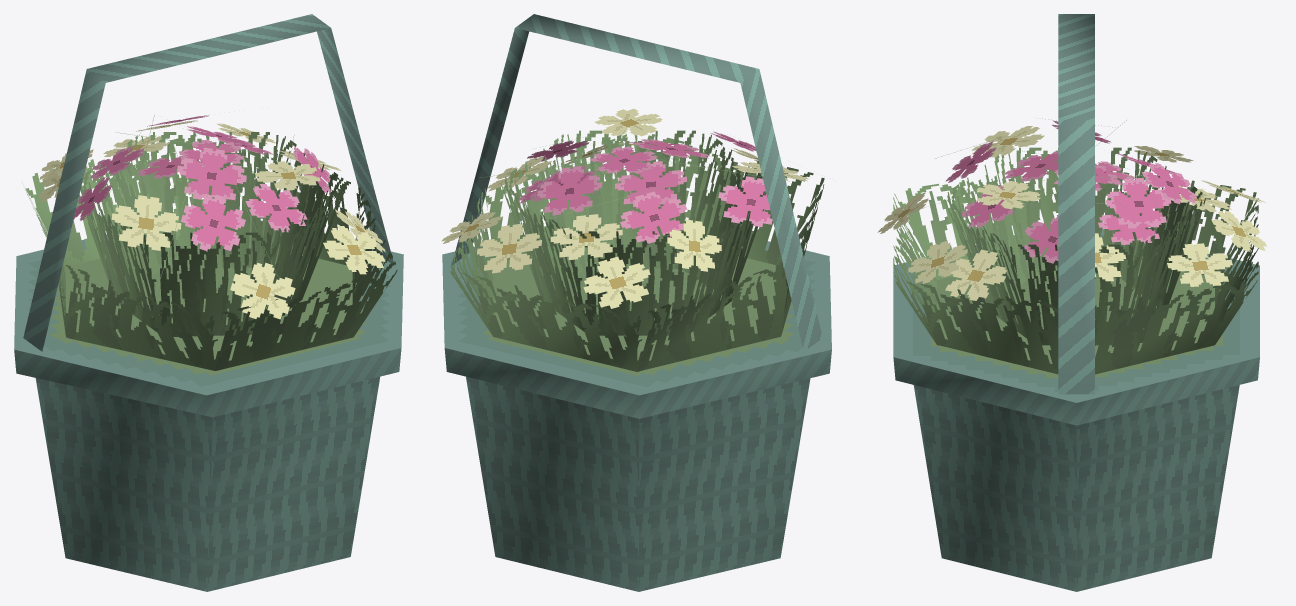
File: 03d4_Flower_Basket.glb
The picture shows the model from 3 angles, left to right: view 1: azimuth 30°, elevation 25°; view 2: azimuth 150°, elevation 25°; view 3: azimuth 270°, elevation 25°; orthographic projection. The views are drawn at different scales.
Visible parts, largest first — view 1: part_0; view 2: part_0; view 3: part_0.
Boxes of the visible parts, x1,y1,x2,y2 form: part_0: (14, 14, 403, 591); part_0: (441, 14, 831, 591); part_0: (877, 14, 1266, 591).
Size of the model in its own units: 0.2004 by 0.2333 by 0.192.
1 material, 1 textured.
